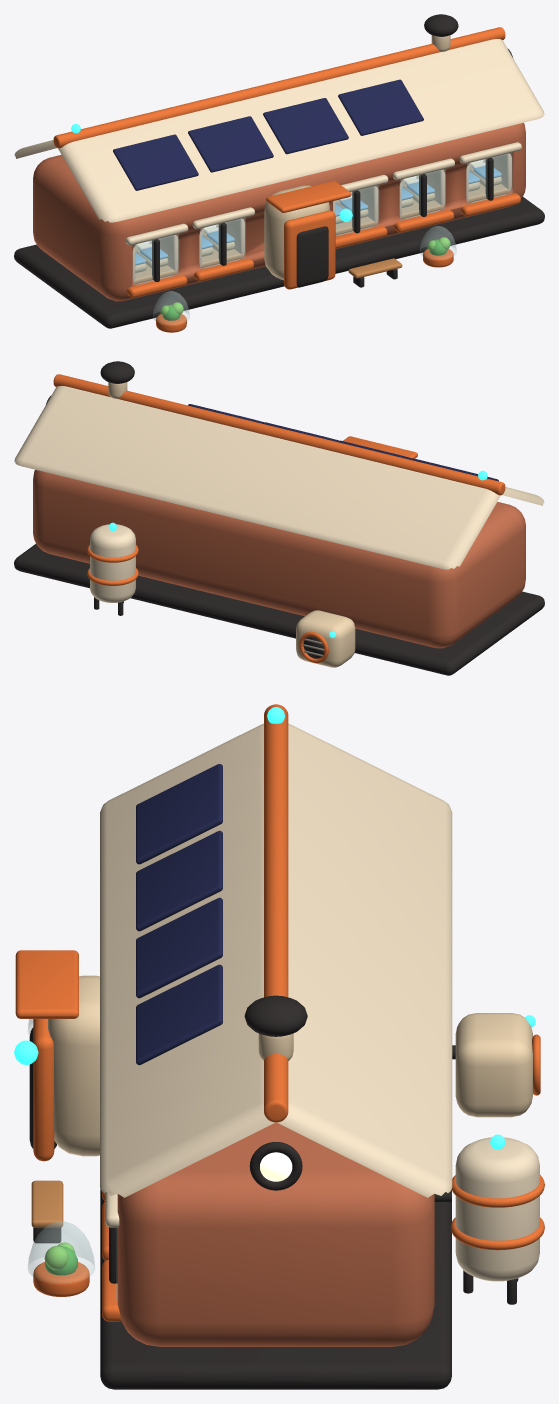
Rendered from brickhome-10.glb.
The picture shows the model from 3 angles, top to bottom: view 1: azimuth 30°, elevation 25°; view 2: azimuth 150°, elevation 25°; view 3: azimuth 270°, elevation 25°; orthographic projection. The views are drawn at different scales.
Parts seen in each view (by area): view 1: Cube.015, Cube.001, Cube, Cube.013, Cube.077, Cube.012, Cube.006, Cube.002, Cube.003, Cube.007, Cube.087; view 2: Cube.015, Cube.001, Cube, Cube.013, Cube.006, Cube.077; view 3: Cube.015, Cube.001, Cube, Cube.077, Cube.013, Cube.006, Cube.012, Cube.087, Sphere.005.
Part boxes in pixels (left/top/right/bottom): Cube.015: left=14, top=39, right=544, bottom=245; Cube.001: left=33, top=123, right=525, bottom=301; Cube: left=14, top=14, right=544, bottom=328; Cube.013: left=53, top=27, right=520, bottom=332; Cube.077: left=113, top=79, right=423, bottom=190; Cube.012: left=133, top=153, right=512, bottom=324; Cube.006: left=135, top=35, right=501, bottom=280; Cube.002: left=132, top=153, right=511, bottom=282; Cube.003: left=134, top=184, right=509, bottom=283; Cube.007: left=135, top=166, right=501, bottom=265; Cube.087: left=348, top=258, right=402, bottom=278; Cube.015: left=14, top=386, right=544, bottom=602; Cube.001: left=33, top=470, right=525, bottom=648; Cube: left=14, top=361, right=544, bottom=675; Cube.013: left=53, top=374, right=505, bottom=663; Cube.006: left=108, top=382, right=355, bottom=667; Cube.077: left=188, top=404, right=498, bottom=481; Cube.015: left=100, top=723, right=539, bottom=1281; Cube.001: left=117, top=1122, right=434, bottom=1346; Cube: left=29, top=995, right=532, bottom=1389; Cube.077: left=136, top=764, right=222, bottom=1065; Cube.013: left=15, top=704, right=544, bottom=1321; Cube.006: left=48, top=975, right=532, bottom=1156; Cube.012: left=27, top=1019, right=117, bottom=1301; Cube.087: left=31, top=1180, right=63, bottom=1227; Sphere.005: left=14, top=707, right=535, bottom=1149.
Bounding box in the file's own units: 2.71 × 1.07 × 1.51.
